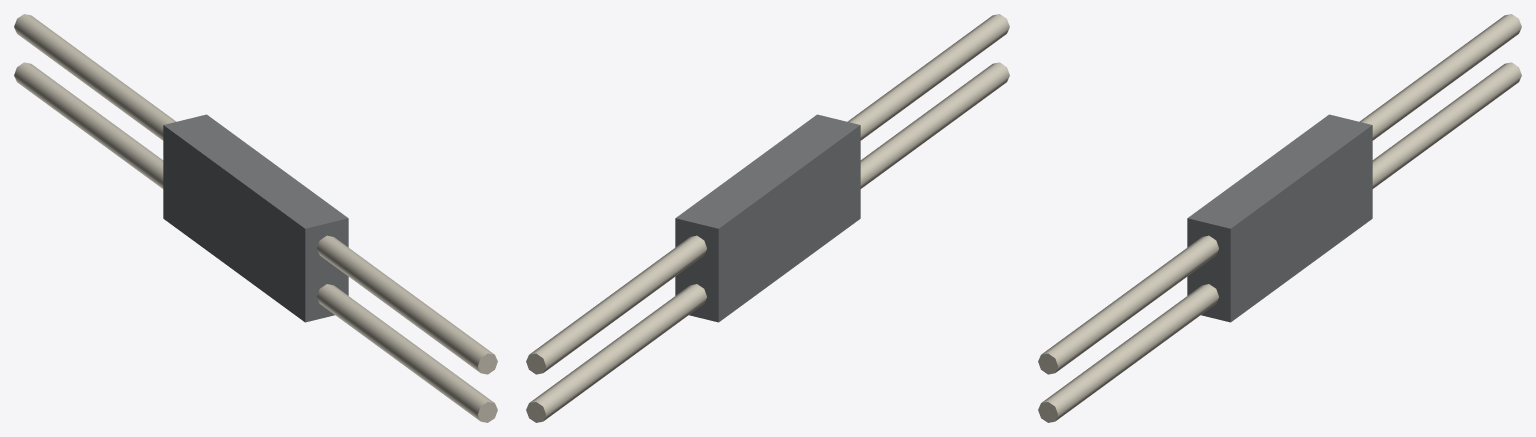
The model's file is th_inverter.obj.
3 views of the same model, side by side, from view 1: azimuth 30°, elevation 25°; view 2: azimuth 150°, elevation 25°; view 3: azimuth 330°, elevation 25° (orthographic).
Visible parts, largest first — view 1: th_inverter; view 2: th_inverter; view 3: th_inverter.
Boxes of the visible parts, bbox=[...] form: th_inverter: bbox=[14, 14, 497, 422]; th_inverter: bbox=[526, 14, 1009, 422]; th_inverter: bbox=[1038, 14, 1521, 422].
Size of the model in its own units: 0.3 by 0.62 by 5.56.
